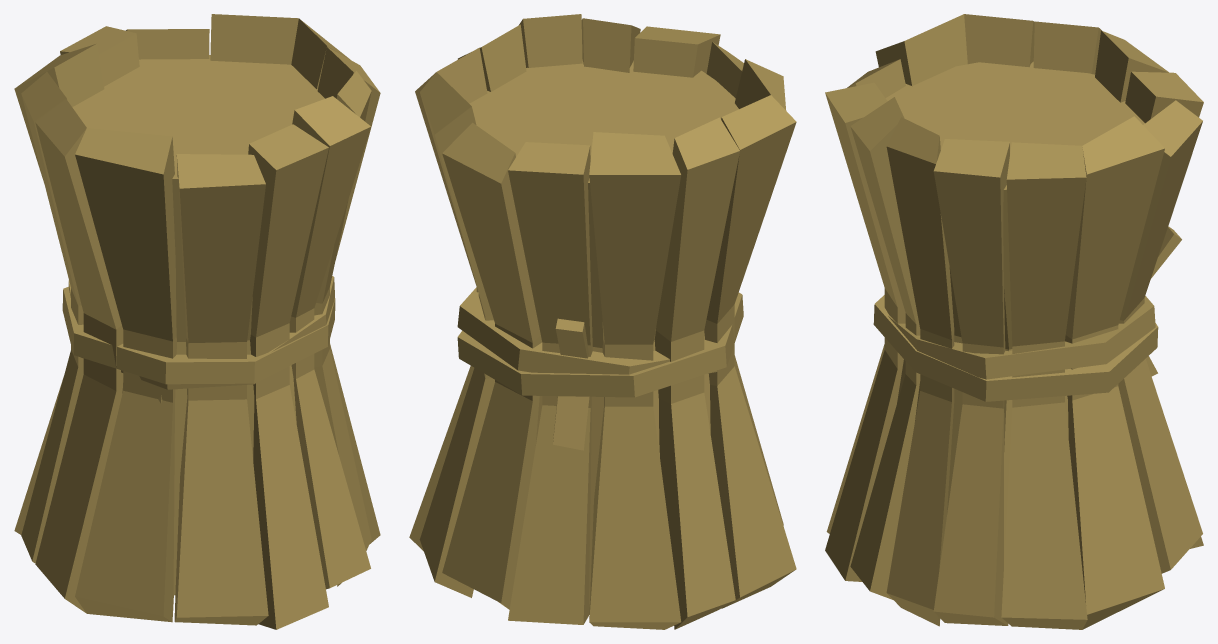
File: hay.glb
The picture shows the model from 3 angles, left to right: view 1: azimuth 30°, elevation 25°; view 2: azimuth 150°, elevation 25°; view 3: azimuth 270°, elevation 25°; orthographic projection.
Visible parts, largest first — view 1: Hay_Plane.010; view 2: Hay_Plane.010; view 3: Hay_Plane.010.
Part boxes in pixels (x1=…): Hay_Plane.010: x1=14, y1=14, x2=380, y2=629; Hay_Plane.010: x1=409, y1=14, x2=796, y2=629; Hay_Plane.010: x1=825, y1=14, x2=1203, y2=629.
Bounding box in the file's own units: 0.121 × 0.1785 × 0.1249.
